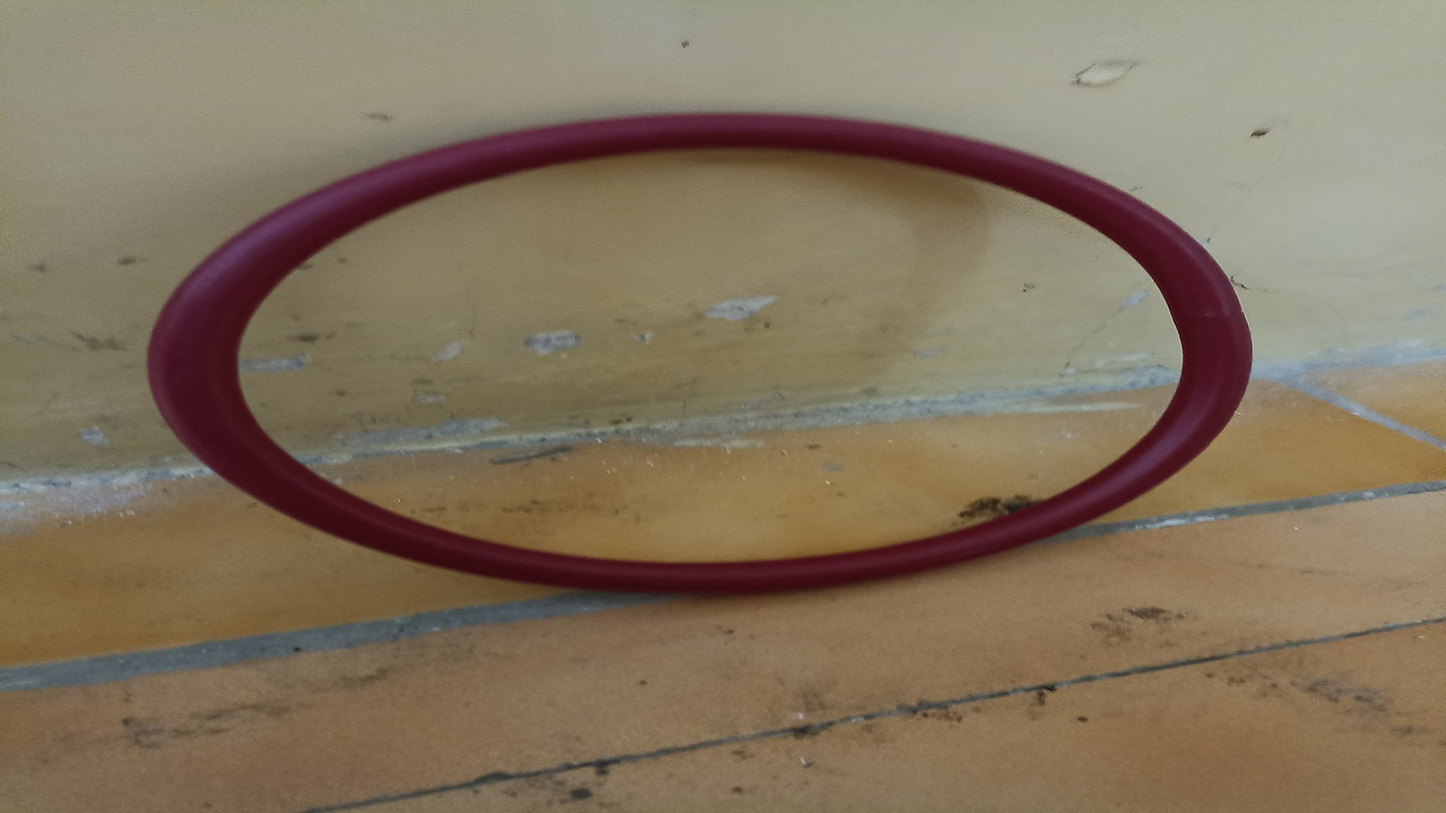Red ring: (144, 116, 1253, 588)
